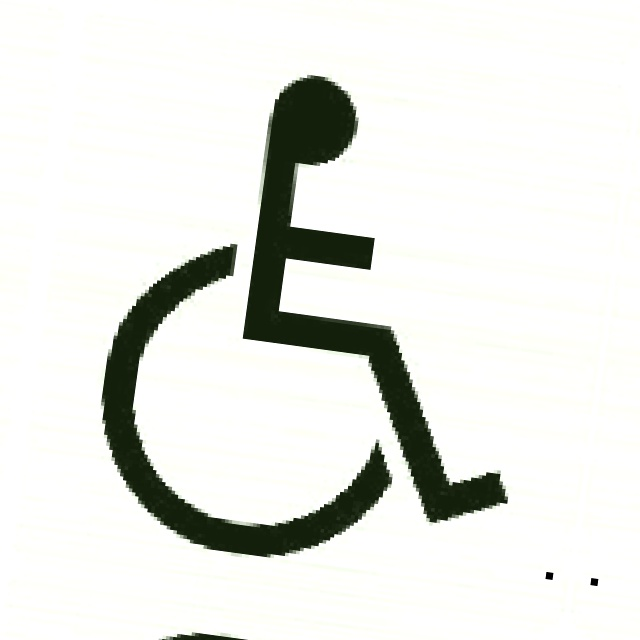ISA: (79, 46, 566, 592), (156, 0, 640, 31), (2, 613, 489, 640), (638, 122, 640, 640)
